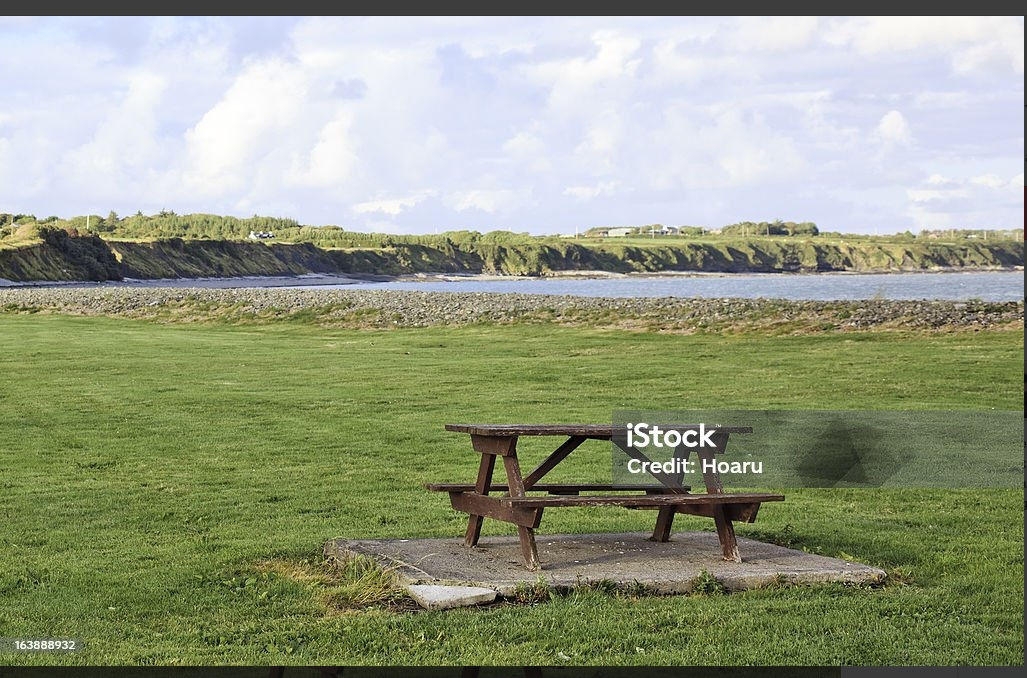obstacle: (427, 412, 788, 574)
